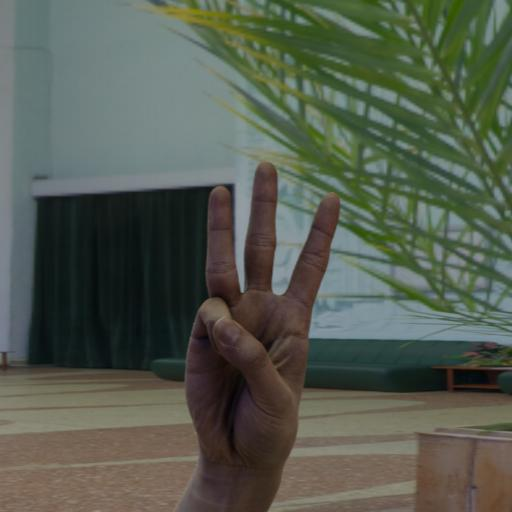W: (169, 157, 358, 512)
